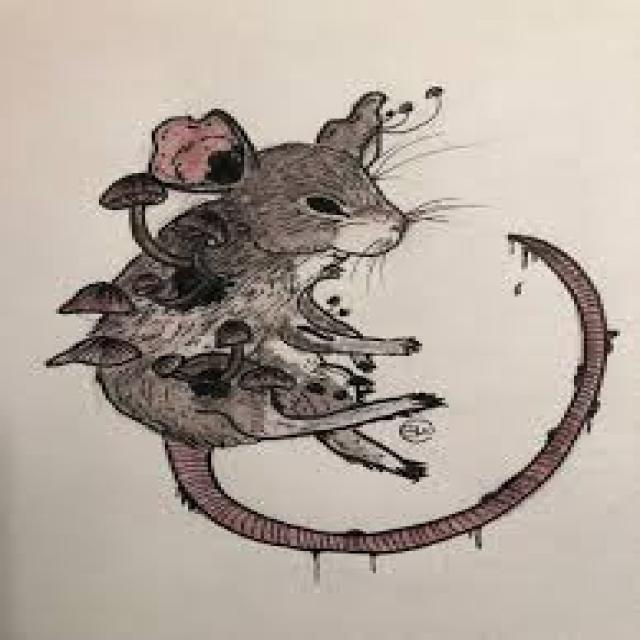Rat: (16, 64, 609, 593)
